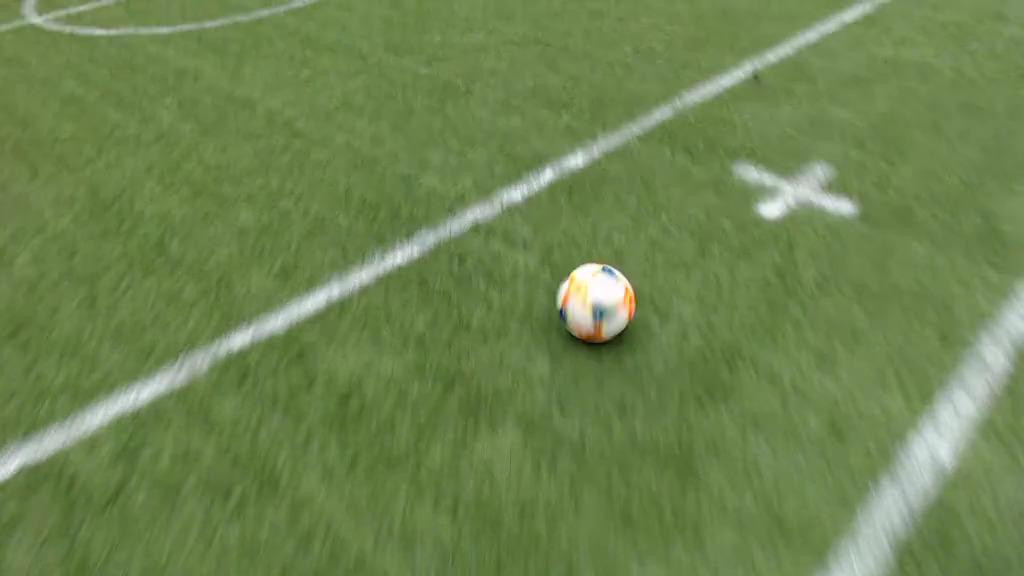ball: (559, 262, 636, 345)
